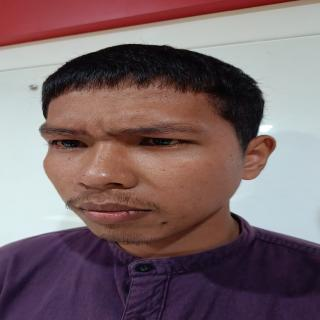Marah: (27, 68, 244, 245)
